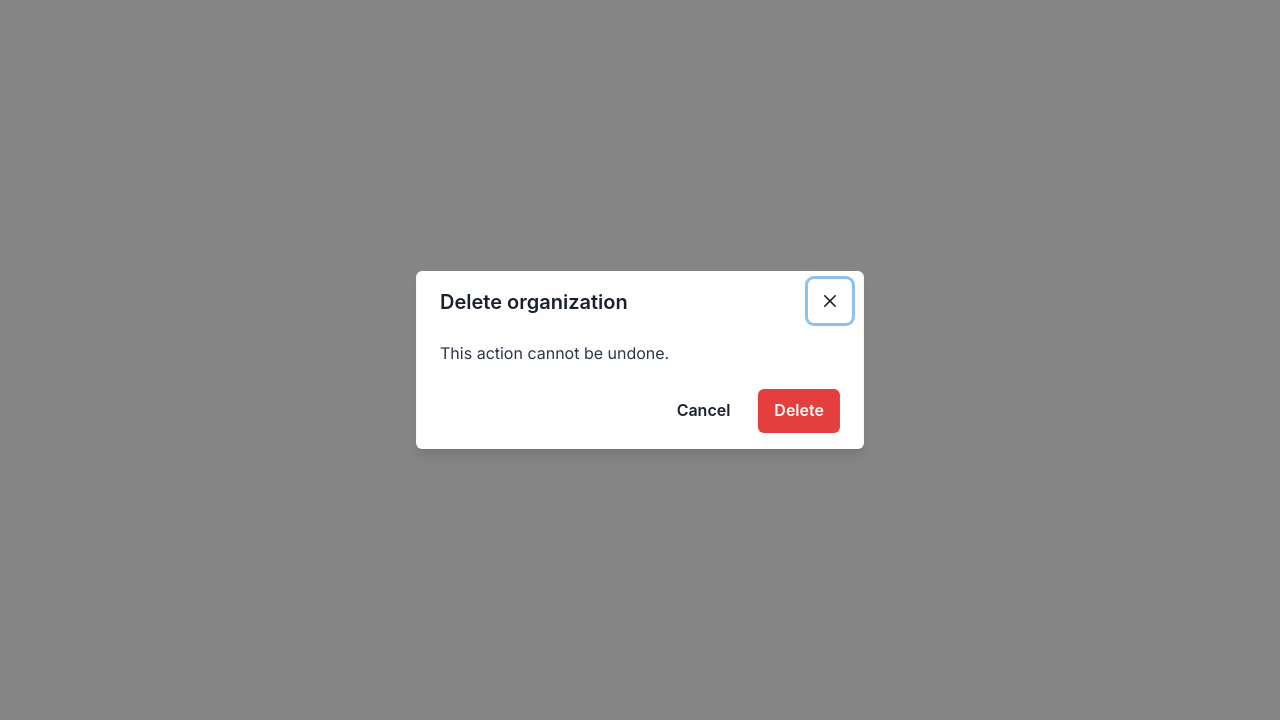
Test: ConfirmationDialog › shows an inline error and stays open when confirm action fails
Click the button "Delete" at (799, 411), box top-left (758, 389), bottom-right (840, 433)
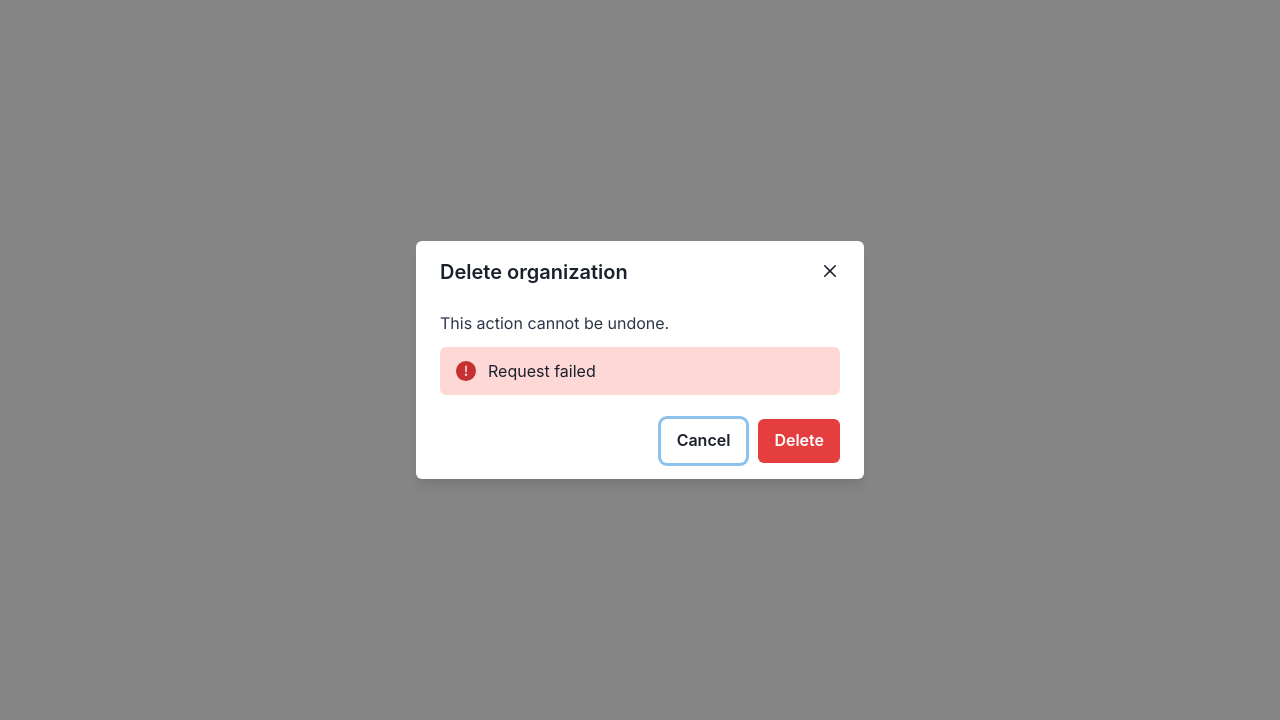
Expected: the text "Request failed" is shown, top-left (440, 347), bottom-right (840, 395)
